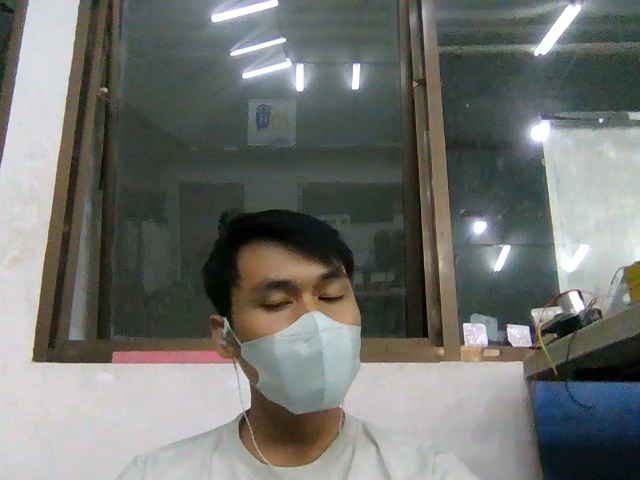mask_on: (239, 311, 360, 415)
